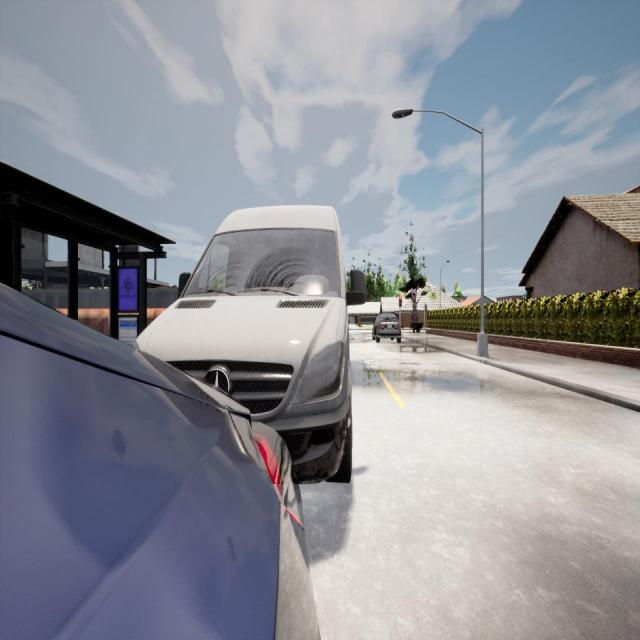Vehicle: (0, 283, 319, 638), (120, 183, 358, 491), (371, 308, 403, 344)
traffic_light: (398, 294, 403, 307), (424, 303, 428, 313)
